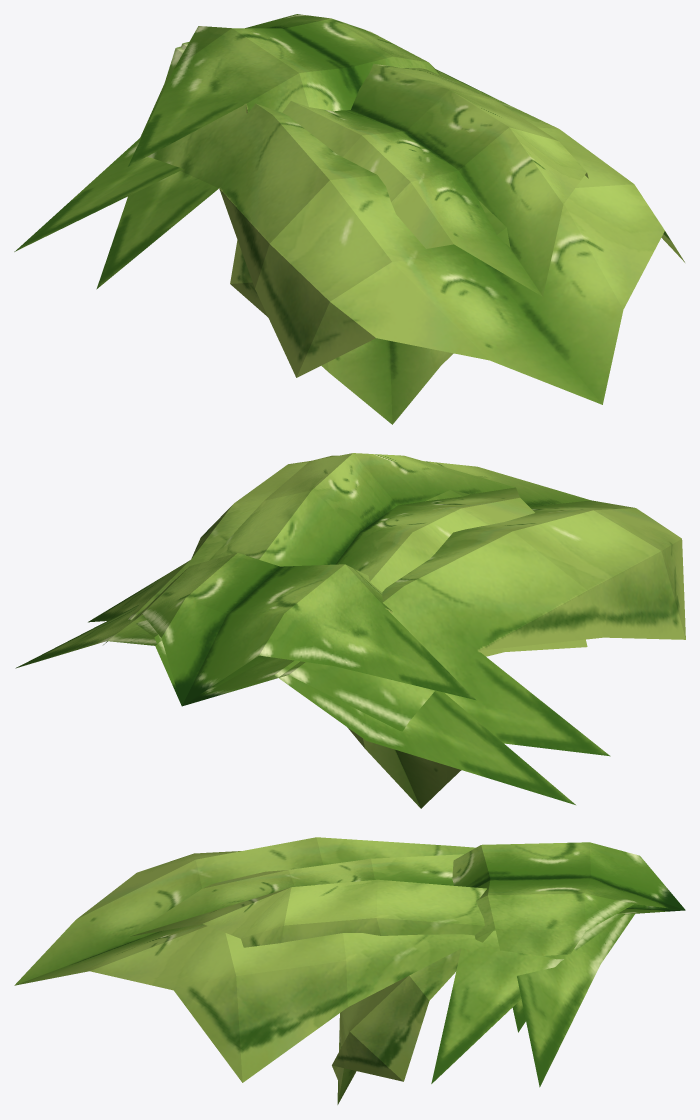
File: plantes.glb
The picture shows the model from 3 angles, top to bottom: view 1: azimuth 30°, elevation 25°; view 2: azimuth 150°, elevation 25°; view 3: azimuth 270°, elevation 25°; orthographic projection. The views are drawn at different scales.
Parts seen in each view (by area): view 1: Feuille_1, Feuille_2, Feuille_3; view 2: Feuille_1, Feuille_2, Feuille_3; view 3: Feuille_1, Feuille_2, Feuille_3.
Part boxes in pixels (left/top/right/bottom): Feuille_1: left=96, top=46, right=684, bottom=404; Feuille_2: left=14, top=42, right=588, bottom=296; Feuille_3: left=128, top=14, right=453, bottom=424; Feuille_1: left=88, top=461, right=685, bottom=756; Feuille_2: left=15, top=453, right=587, bottom=804; Feuille_3: left=103, top=553, right=475, bottom=808; Feuille_1: left=14, top=837, right=683, bottom=1083; Feuille_2: left=128, top=854, right=684, bottom=1087; Feuille_3: left=332, top=842, right=685, bottom=1104.
Bounding box in the file's own units: 0.0197 × 0.0106 × 0.0248.
1 material, 1 textured.
